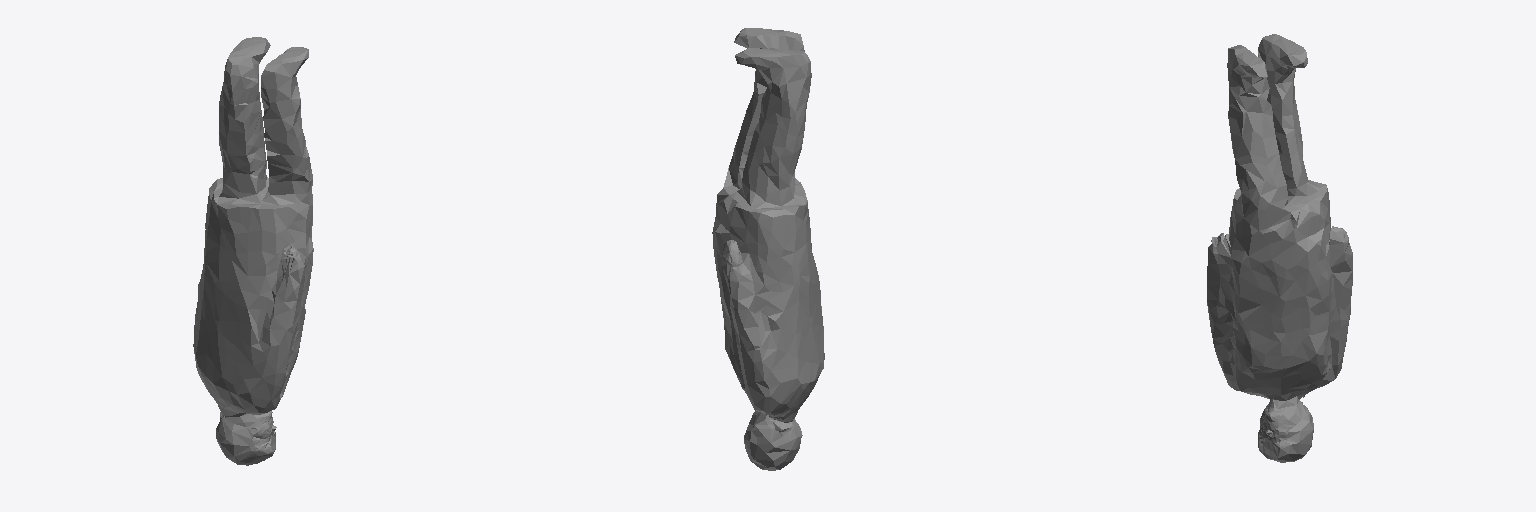
3 views of the same model, side by side, from view 1: azimuth 30°, elevation 25°; view 2: azimuth 150°, elevation 25°; view 3: azimuth 270°, elevation 25° (orthographic).
Parts seen in each view (by area): view 1: pB02; view 2: pB02; view 3: pB02.
Part boxes in pixels (x1,y1,x2,y2): pB02: (193, 37, 313, 465); pB02: (712, 28, 824, 470); pB02: (1207, 34, 1352, 462).
Bounding box in the file's own units: 40.92 × 178 × 56.85.